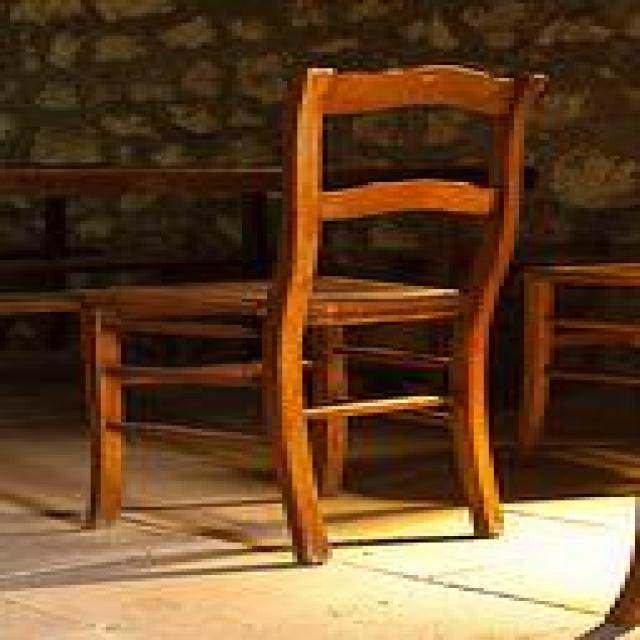chair: (76, 62, 549, 562)
